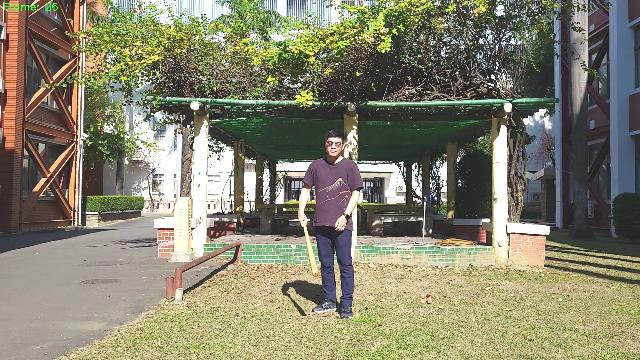baseball bat: (301, 221, 319, 277)
